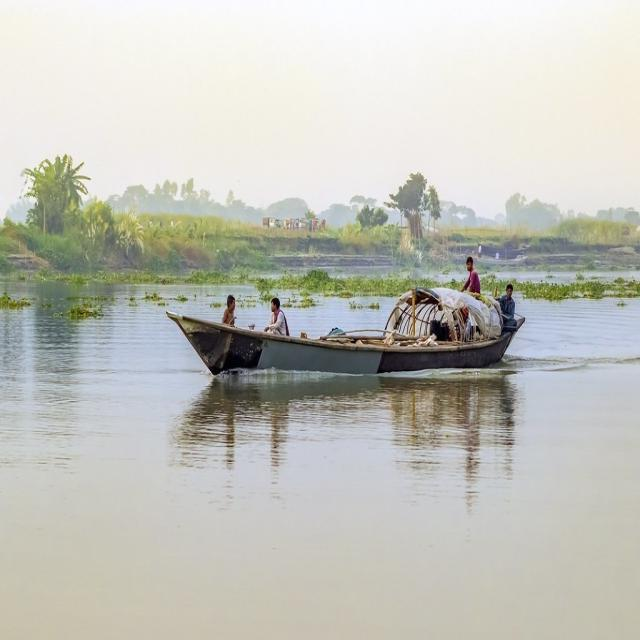Hyacinth: (259, 269, 636, 299), (178, 268, 258, 290), (119, 292, 179, 310), (0, 286, 28, 314), (65, 305, 104, 319)
boat: (164, 309, 524, 383)
